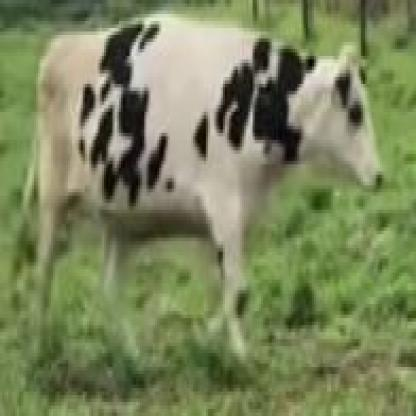cow: (22, 14, 386, 371)
